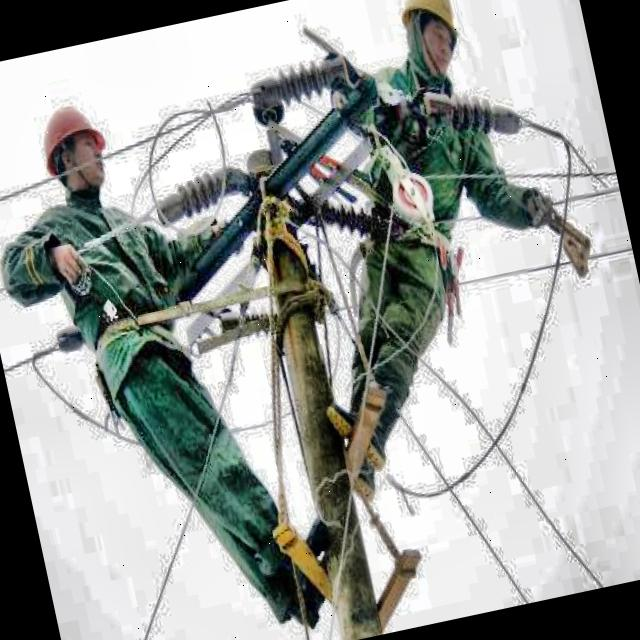helmet: (26, 88, 120, 208), (390, 0, 472, 85)
